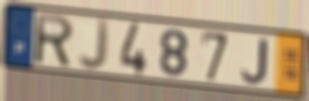4: (119, 19, 149, 78)
7: (200, 30, 230, 83)
8: (159, 28, 189, 78)
J: (76, 16, 112, 74), (240, 37, 269, 85)
R: (34, 12, 75, 69)
